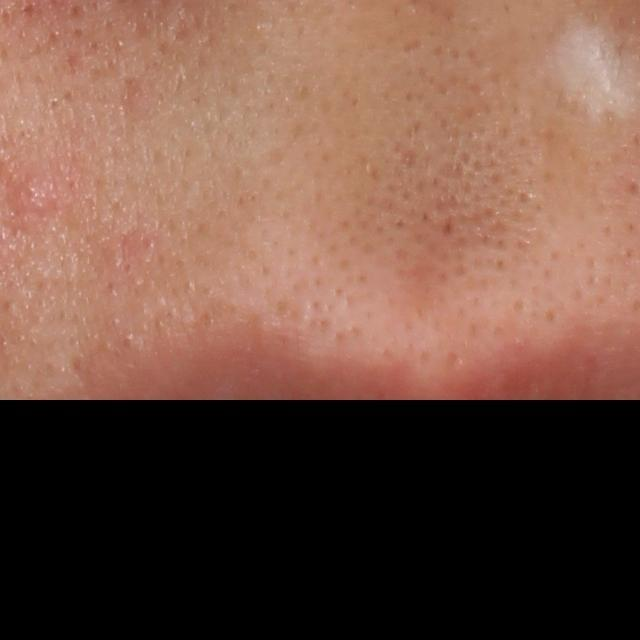papule: (6, 173, 55, 219)
